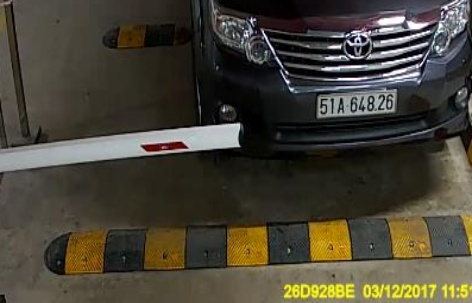plate: (312, 90, 401, 117)
